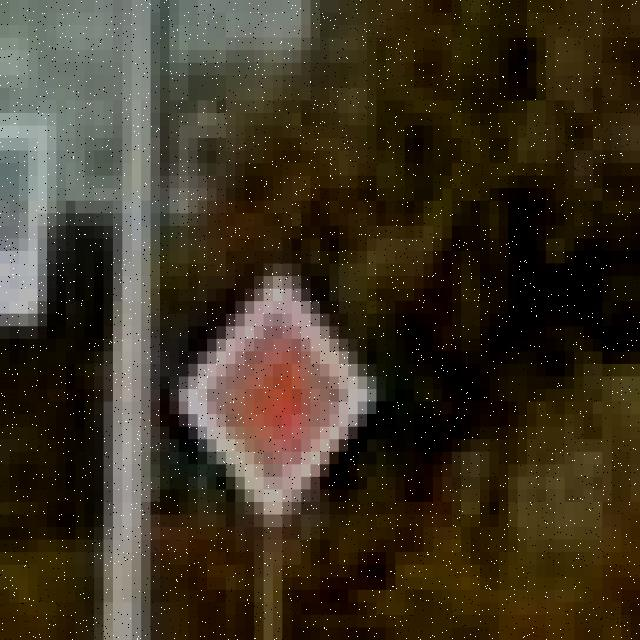Droga z pierwszenstwem: (170, 264, 376, 528)
